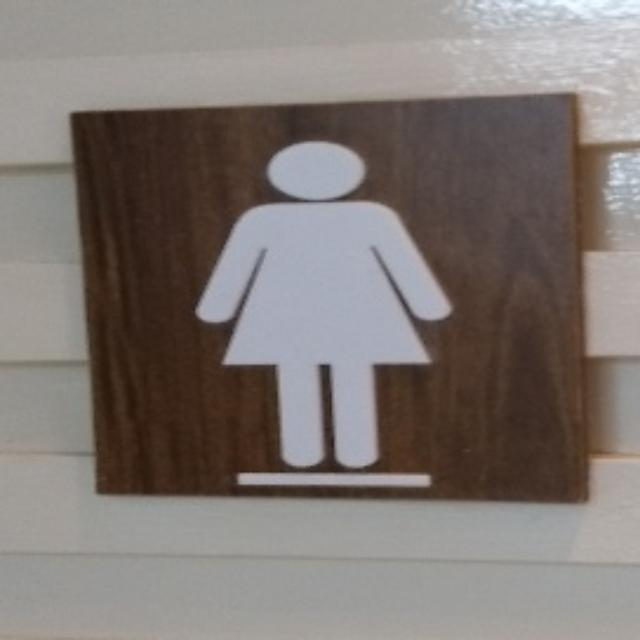womens_restroom: (73, 96, 584, 494)
